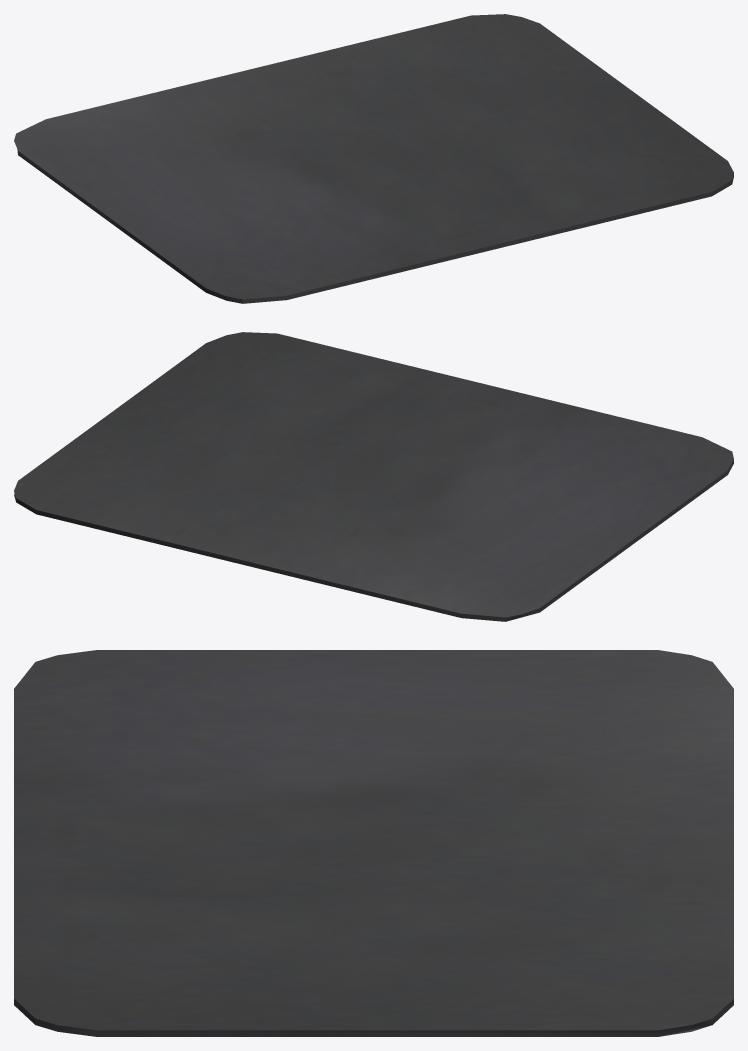
File: Mouse Pad_lod3.fbx
3 renders of one model, top to bottom at view 1: azimuth 30°, elevation 25°; view 2: azimuth 150°, elevation 25°; view 3: azimuth 270°, elevation 25°, orthographic. The views are drawn at different scales.
Visible parts, largest first — view 1: Mouse_Pad; view 2: Mouse_Pad; view 3: Mouse_Pad.
Part boxes in pixels (box(x1,y1,x2,y2)): Mouse_Pad: box(14, 14, 733, 303); Mouse_Pad: box(14, 332, 733, 621); Mouse_Pad: box(14, 650, 733, 1036).
Size of the model in its own units: 2.5 by 0.0203 by 2.
